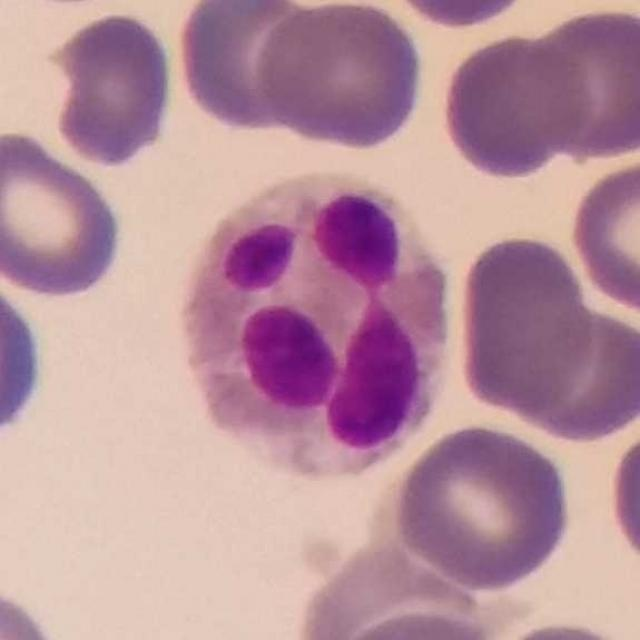eosino: (180, 169, 449, 484)
